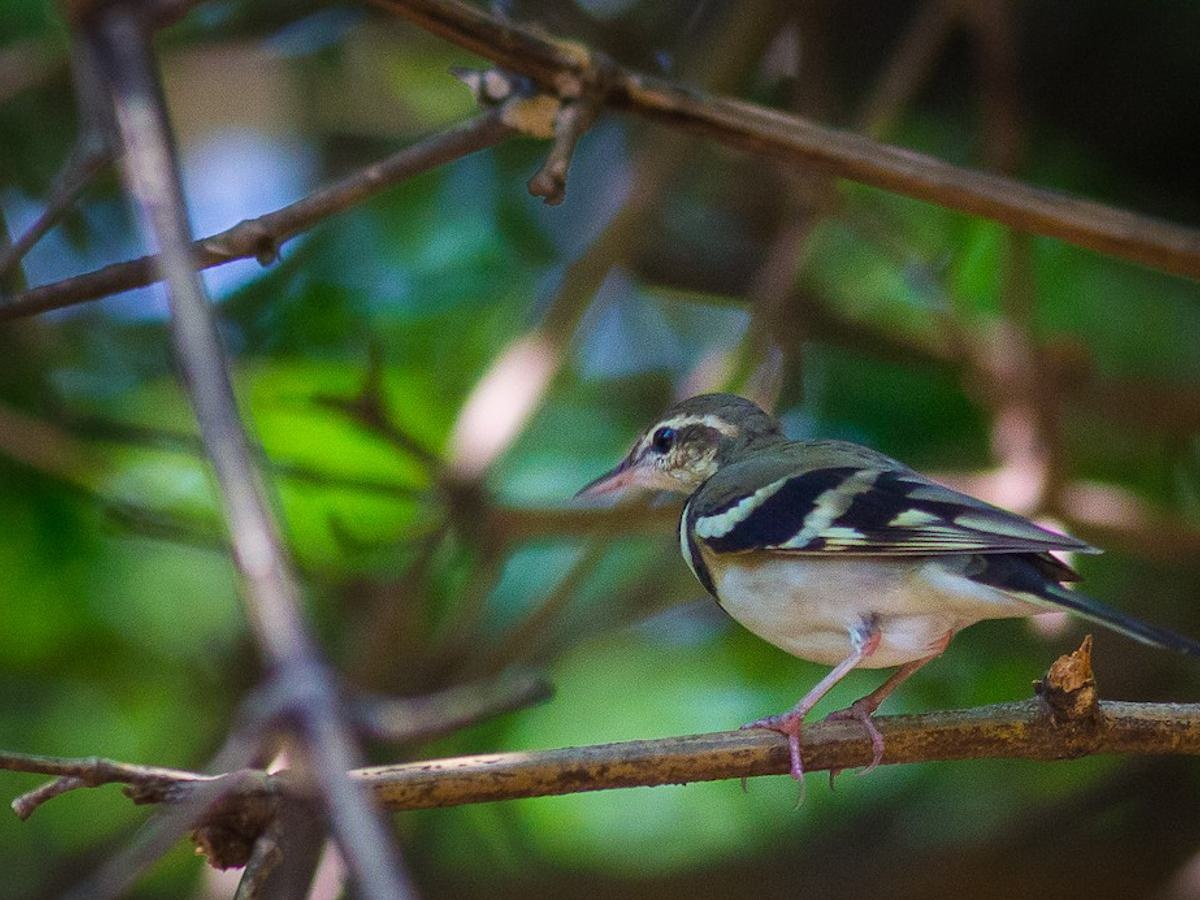wagtail: (585, 374, 1083, 721)
